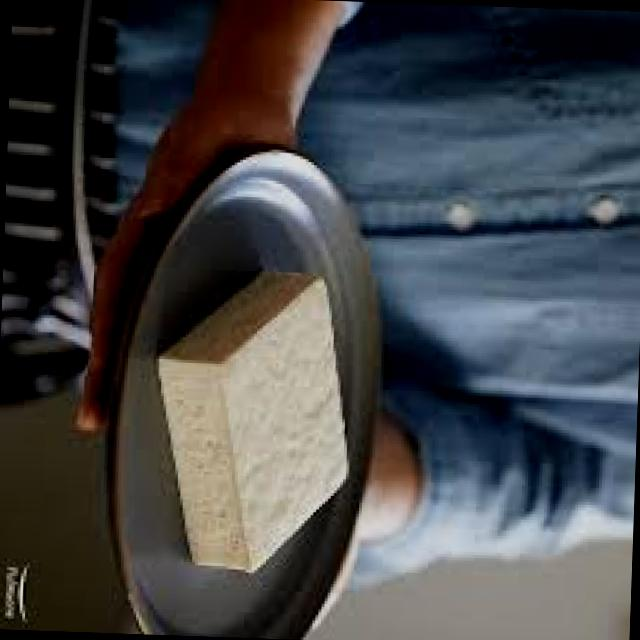tof: (144, 258, 358, 591)
